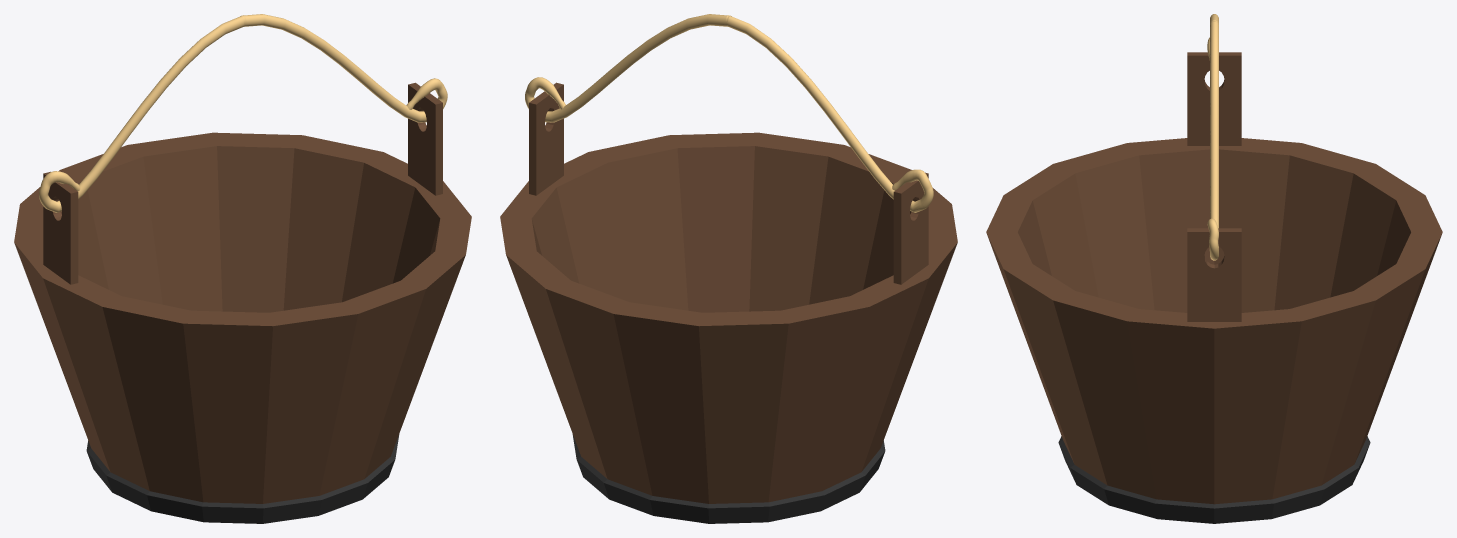
Rendered from bucket.fbx.
3 renders of one model, left to right at view 1: azimuth 30°, elevation 25°; view 2: azimuth 150°, elevation 25°; view 3: azimuth 270°, elevation 25°, orthographic.
Visible parts, largest first — view 1: bucket; view 2: bucket; view 3: bucket.
Part boxes in pixels (x1,y1,x2,y2): bucket: (14, 14, 471, 523); bucket: (500, 14, 957, 523); bucket: (986, 14, 1442, 523).
Bounding box in the file's own units: 43.49 × 45.36 × 42.67.
